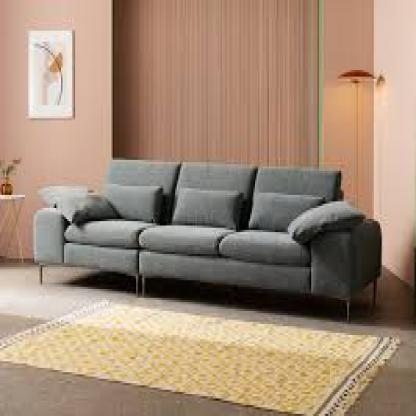sofa: (36, 153, 394, 320)
